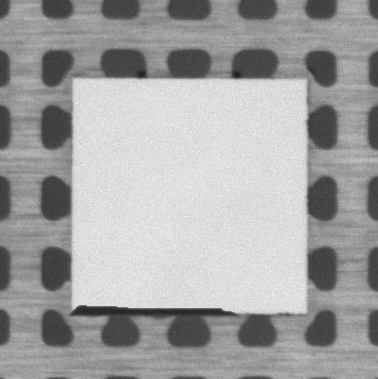DIE_BROKEN: (66, 301, 237, 320)
